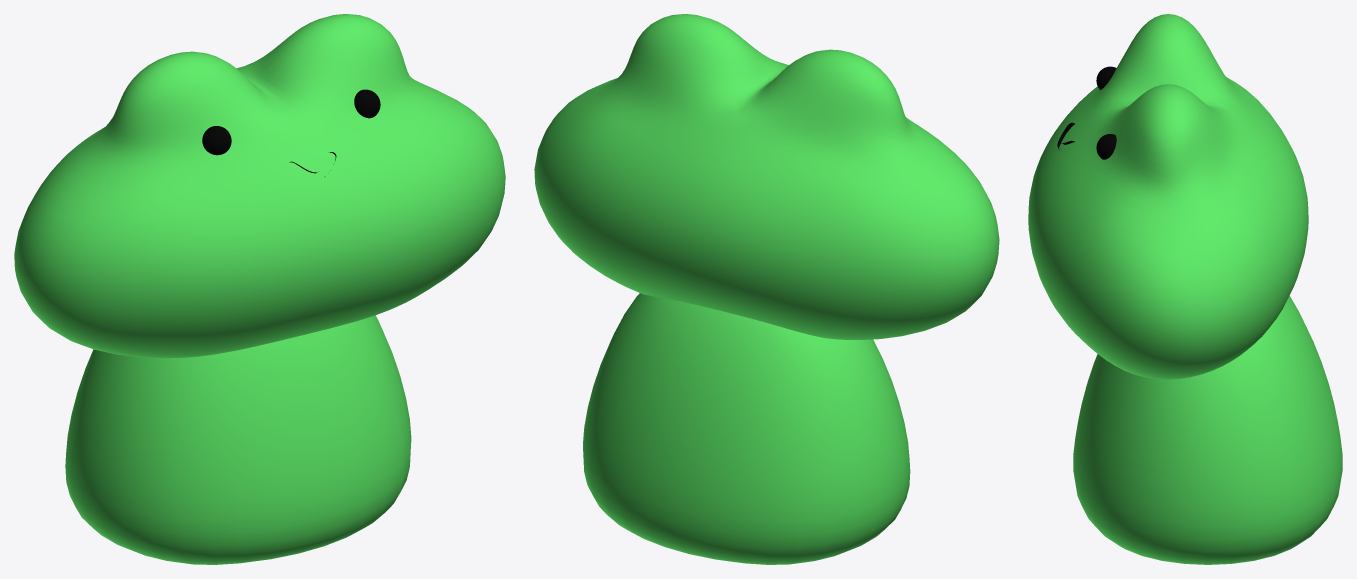
Rendered from flog.glb.
The picture shows the model from 3 angles, left to right: view 1: azimuth 30°, elevation 25°; view 2: azimuth 150°, elevation 25°; view 3: azimuth 270°, elevation 25°; orthographic projection. The views are drawn at different scales.
Parts seen in each view (by area): view 1: Cube, Cube.001, Sphere; view 2: Cube, Cube.001; view 3: Cube, Cube.001, Sphere.
Part boxes in pixels (box(x1,y1,x2,y2)): Cube: box(14, 14, 505, 358); Cube.001: box(65, 315, 411, 564); Sphere: box(202, 89, 380, 155); Cube: box(534, 14, 999, 340); Cube.001: box(583, 293, 910, 564); Cube: box(1028, 14, 1308, 379); Cube.001: box(1073, 295, 1342, 564); Sphere: box(1096, 66, 1116, 159).
Size of the model in its own units: 4.13 by 4.25 by 2.59.
